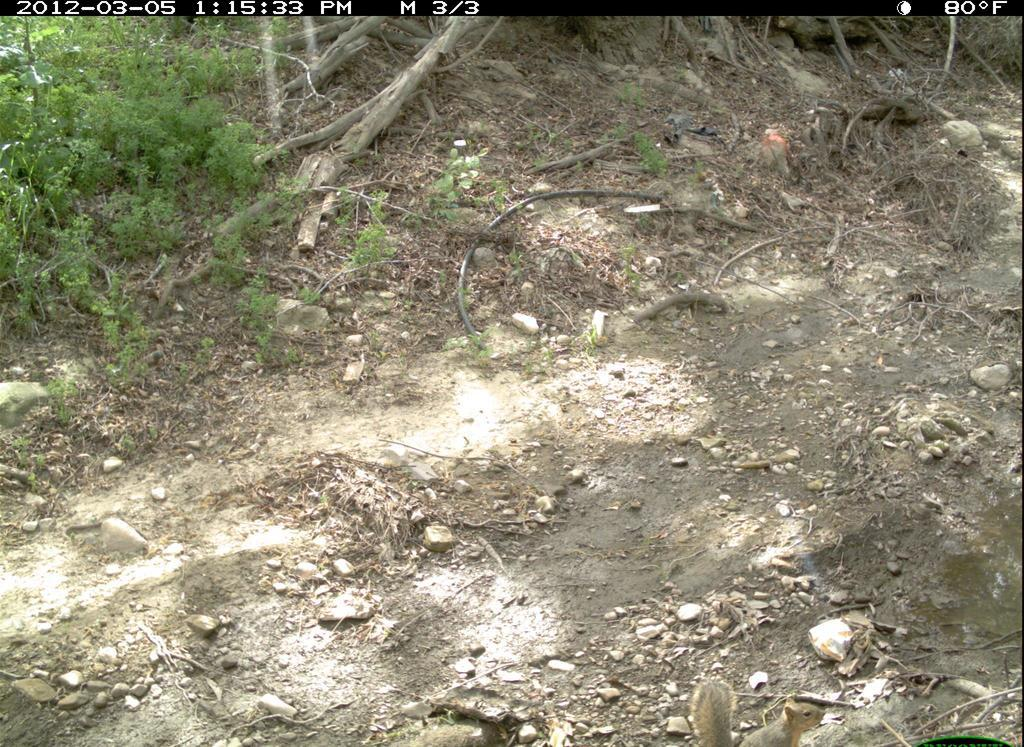squirrel: (688, 674, 830, 747)
